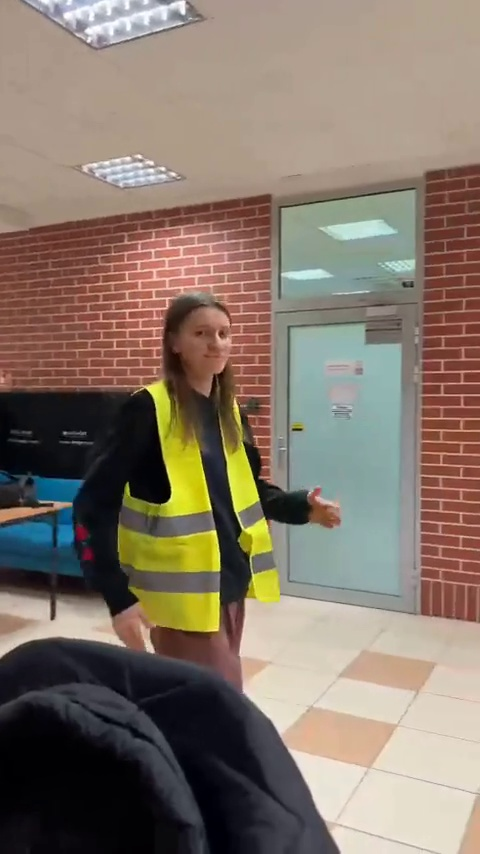vest: (83, 295, 320, 668)
